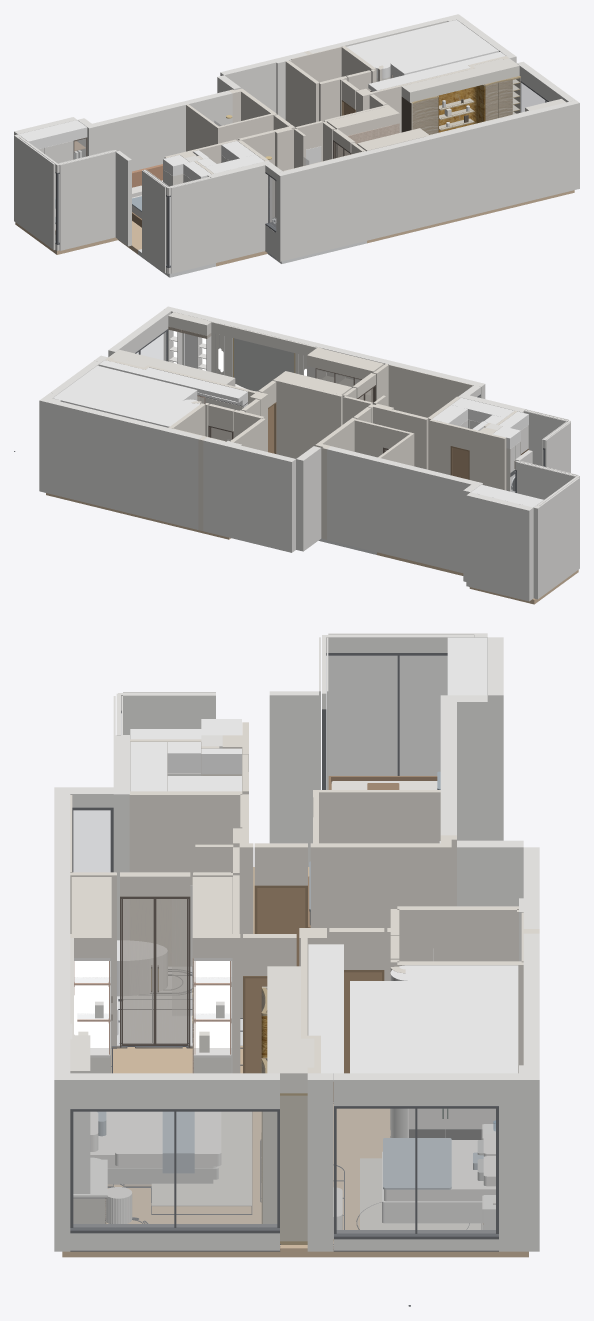
The picture shows the model from 3 angles, top to bottom: view 1: azimuth 30°, elevation 25°; view 2: azimuth 150°, elevation 25°; view 3: azimuth 270°, elevation 25°; orthographic projection. The views are drawn at different scales.
Visible parts, largest first — view 1: 2F_Plan_Walls_Manifold, 2F_NorthBed_HeadCove_Outer, 2F_MBR_OppCab_Soffit, 2F_MBR_OppCab_Alcove_CurvedWall, 2F_ChildTatami_Soffit, 2F_WIC_N_Bulkhead_Main, 2F_Win_MasterBed_Lintel, 2F_NorthBed_OppCab_CeilingCove, 2F_MBR_OppCab_Soffit_R, 2F_WIC_S_Bulkhead_Main, 2F_MBR_OppCab_R_Door2, 2F_MBR_OppCab_L_Door2 (+16 smaller); view 2: 2F_Plan_Walls_Manifold, 2F_NorthBed_HeadCove_Outer, 2F_MBR_HeadWall_Grey, 2F_MBR_HeadWall_Soffit, 2F_WIC_S_Bulkhead_Main, 2F_NorthBed_OppCab_CeilingCove, 2F_Win_MasterBed_Lintel, 2F_MBR_HeadWall_Cream_E, 2F_MBR_OppCab_Soffit, 2F_ChildWIC_Soffit_S, 2F_NorthBed_OppCab_Soffit, 2F_ChildTatami_Soffit (+11 smaller); view 3: 2F_Plan_Walls_Manifold, 2F_Win_MasterBed_Glass, 2F_Win_ParentRoom_Glass, 2F_NorthBed_HeadCove_Outer, 2F_Win_Washing_W_Glass, 2F_Win_MasterBed_Lintel, 2F_MBR_OppCab_Col_CheekR, 2F_Slab_ParentRoom, 2F_Win_ParentRoom_Lintel, 2F_Slab_MasterBed, 2F_MasterBed_Rug, 2F_Door_WIC_Bath_LeafS_Glass (+45 smaller).
Part boxes in pixels (bbox=[...]): 2F_Plan_Walls_Manifold: bbox=[14, 14, 579, 273]; 2F_NorthBed_HeadCove_Outer: bbox=[362, 20, 498, 77]; 2F_MBR_OppCab_Soffit: bbox=[401, 68, 484, 102]; 2F_MBR_OppCab_Alcove_CurvedWall: bbox=[438, 85, 485, 132]; 2F_ChildTatami_Soffit: bbox=[18, 120, 87, 149]; 2F_WIC_N_Bulkhead_Main: bbox=[327, 108, 391, 135]; 2F_Win_MasterBed_Lintel: bbox=[517, 61, 575, 102]; 2F_NorthBed_OppCab_CeilingCove: bbox=[368, 52, 505, 91]; 2F_MBR_OppCab_Soffit_R: bbox=[473, 58, 519, 84]; 2F_WIC_S_Bulkhead_Main: bbox=[357, 130, 421, 151]; 2F_MBR_OppCab_R_Door2: bbox=[498, 80, 512, 117]; 2F_MBR_OppCab_L_Door2: bbox=[424, 98, 438, 134]; 2F_Plan_Walls_Manifold: bbox=[39, 306, 579, 601]; 2F_NorthBed_HeadCove_Outer: bbox=[53, 365, 197, 423]; 2F_MBR_HeadWall_Grey: bbox=[234, 338, 294, 391]; 2F_MBR_HeadWall_Soffit: bbox=[211, 322, 317, 355]; 2F_WIC_S_Bulkhead_Main: bbox=[315, 349, 383, 379]; 2F_NorthBed_OppCab_CeilingCove: bbox=[99, 360, 244, 402]; 2F_Win_MasterBed_Lintel: bbox=[108, 309, 170, 356]; 2F_MBR_HeadWall_Cream_E: bbox=[211, 333, 232, 377]; 2F_MBR_OppCab_Soffit: bbox=[148, 359, 235, 386]; 2F_ChildWIC_Soffit_S: bbox=[451, 397, 514, 422]; 2F_NorthBed_OppCab_Soffit: bbox=[144, 367, 247, 405]; 2F_ChildTatami_Soffit: bbox=[471, 484, 543, 507]; 2F_Plan_Walls_Manifold: bbox=[54, 633, 539, 1251]; 2F_Win_MasterBed_Glass: bbox=[73, 1112, 276, 1227]; 2F_Win_ParentRoom_Glass: bbox=[337, 1109, 495, 1233]; 2F_NorthBed_HeadCove_Outer: bbox=[350, 981, 518, 1073]; 2F_Win_Washing_W_Glass: bbox=[326, 656, 447, 789]; 2F_Win_MasterBed_Lintel: bbox=[70, 1073, 279, 1108]; 2F_MBR_OppCab_Col_CheekR: bbox=[263, 1095, 307, 1241]; 2F_Slab_ParentRoom: bbox=[304, 1102, 528, 1257]; 2F_Win_ParentRoom_Lintel: bbox=[334, 1073, 498, 1105]; 2F_Slab_MasterBed: bbox=[62, 1111, 304, 1257]; 2F_MasterBed_Rug: bbox=[151, 1111, 251, 1206]; 2F_Door_WIC_Bath_LeafS_Glass: bbox=[123, 899, 153, 1043].
Bounding box in the file's own units: 17.75 × 2.98 × 7.26.
59 materials, 7 textured.
